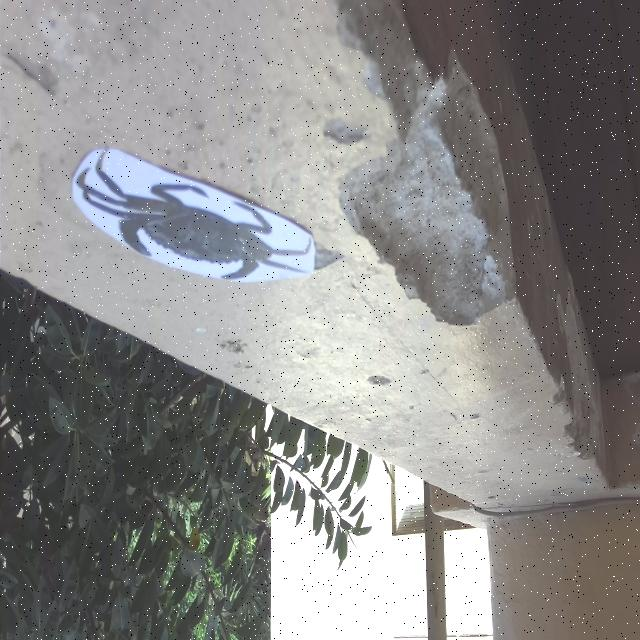European_Green_Crab: (70, 135, 315, 322)
